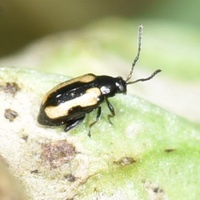insect: (38, 25, 160, 131)
